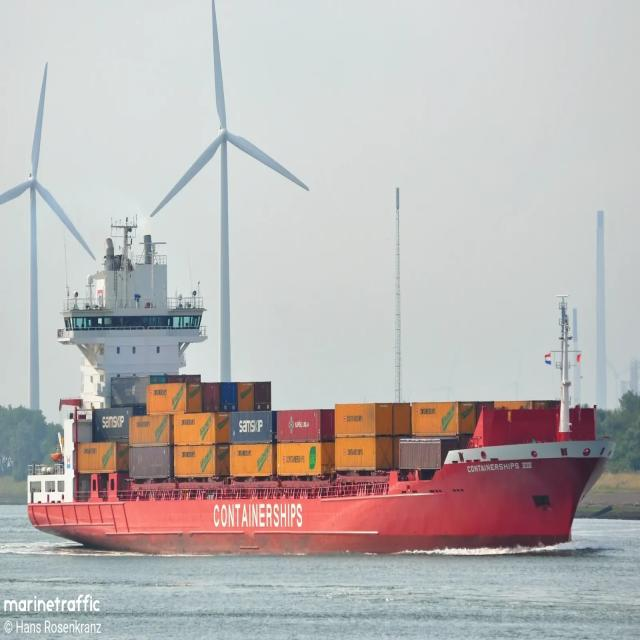Cargo: (28, 223, 611, 553)
